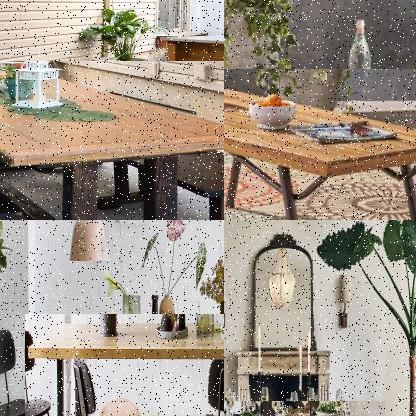table: (0, 61, 223, 219), (224, 69, 415, 219), (23, 314, 223, 415)
